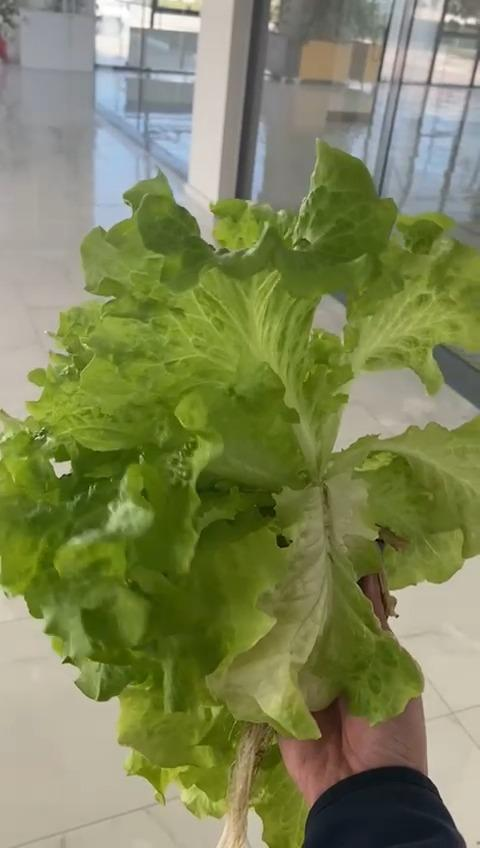Healthy Lettuce: (0, 140, 480, 848)
